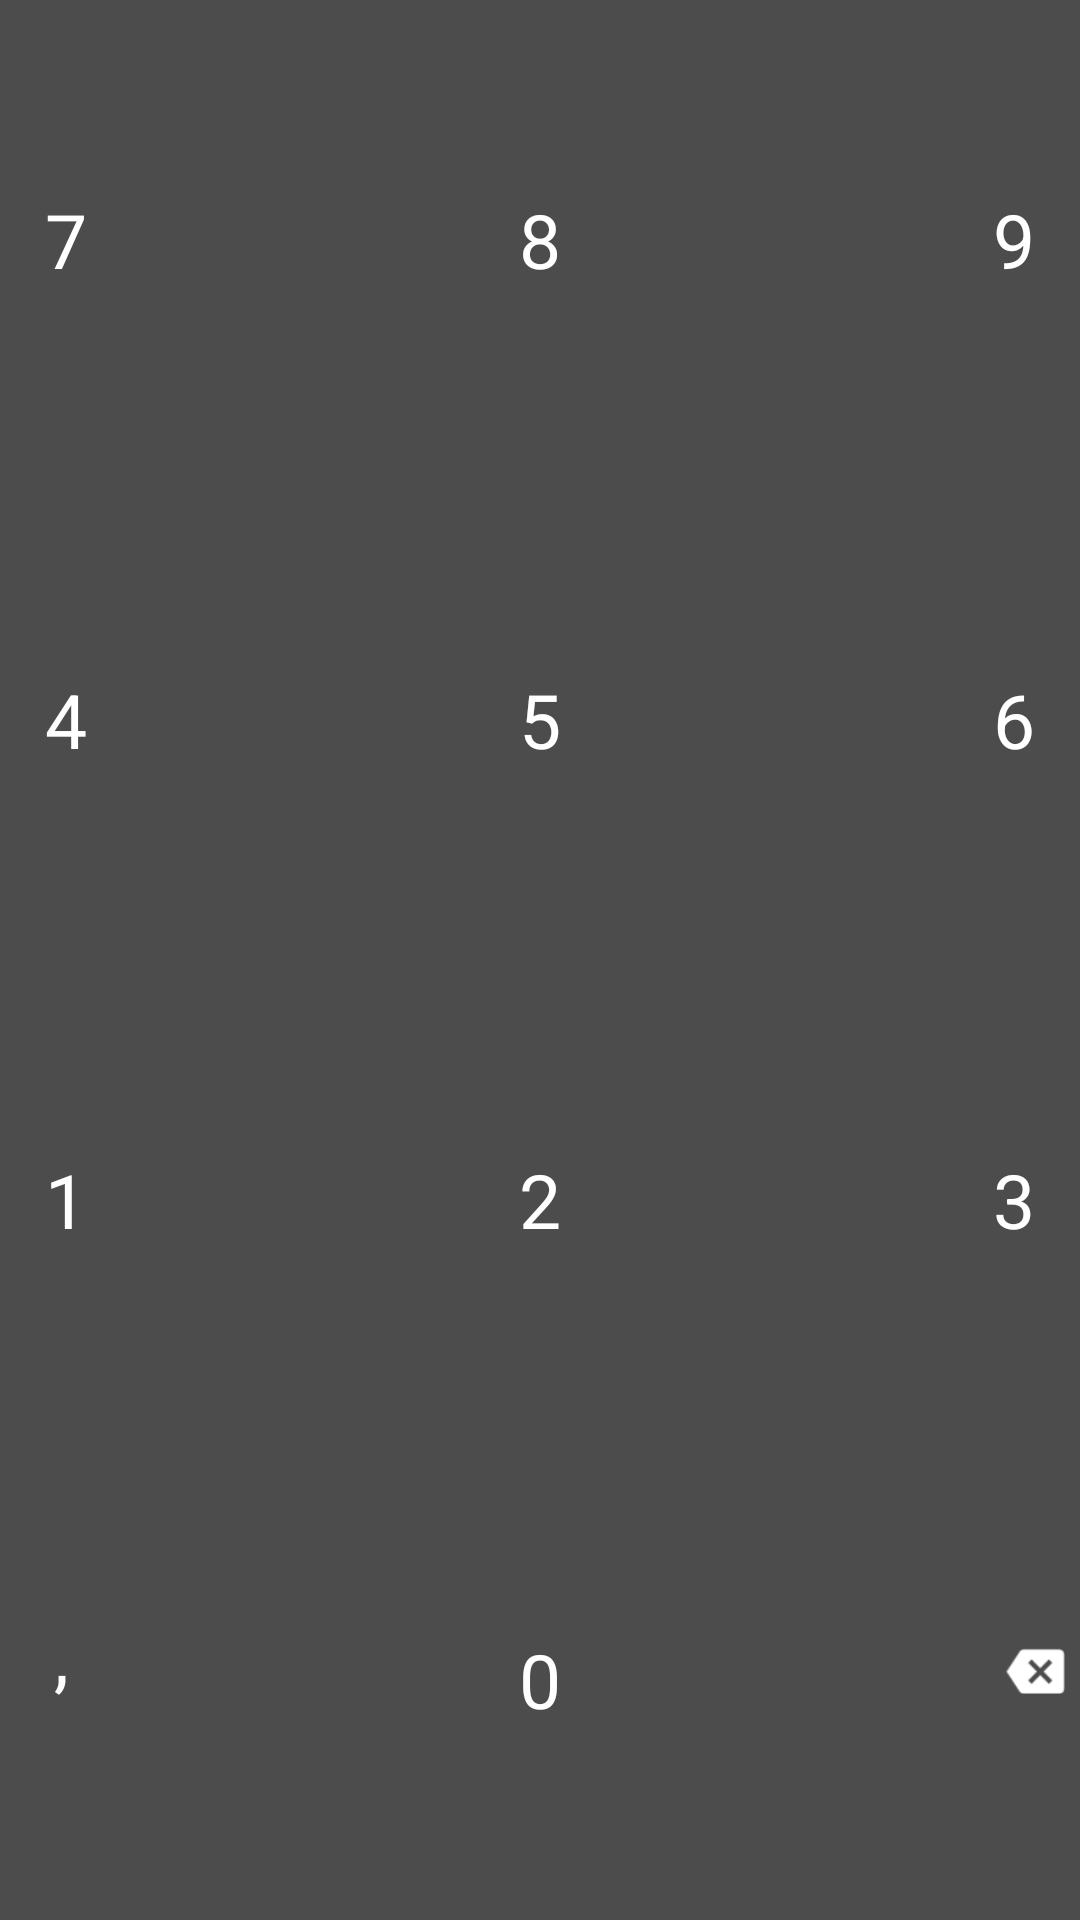

Icons on this 1080×1920 Android screen, each with its box as (x1=x1, y1=y1, x2=x2, y2=y2):
backspace: (x1=1006, y1=1649, x2=1065, y2=1694)
